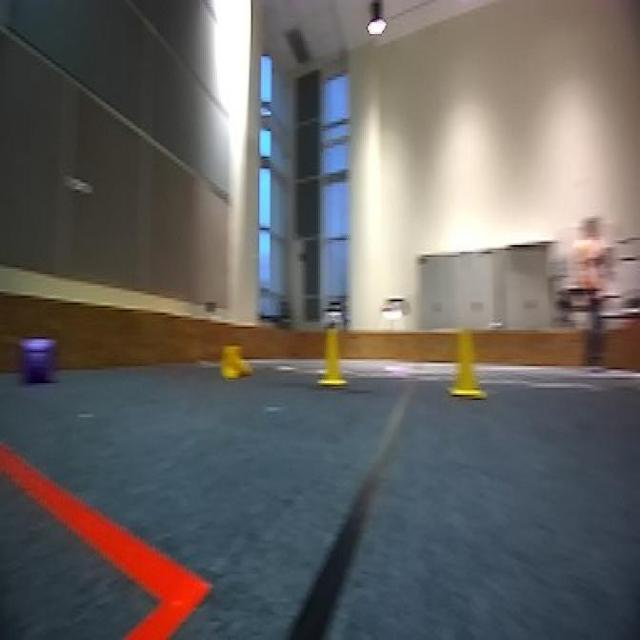frc_cone: (449, 328, 482, 402), (318, 323, 347, 388), (220, 342, 254, 381)
frc_cube: (23, 335, 55, 385)
